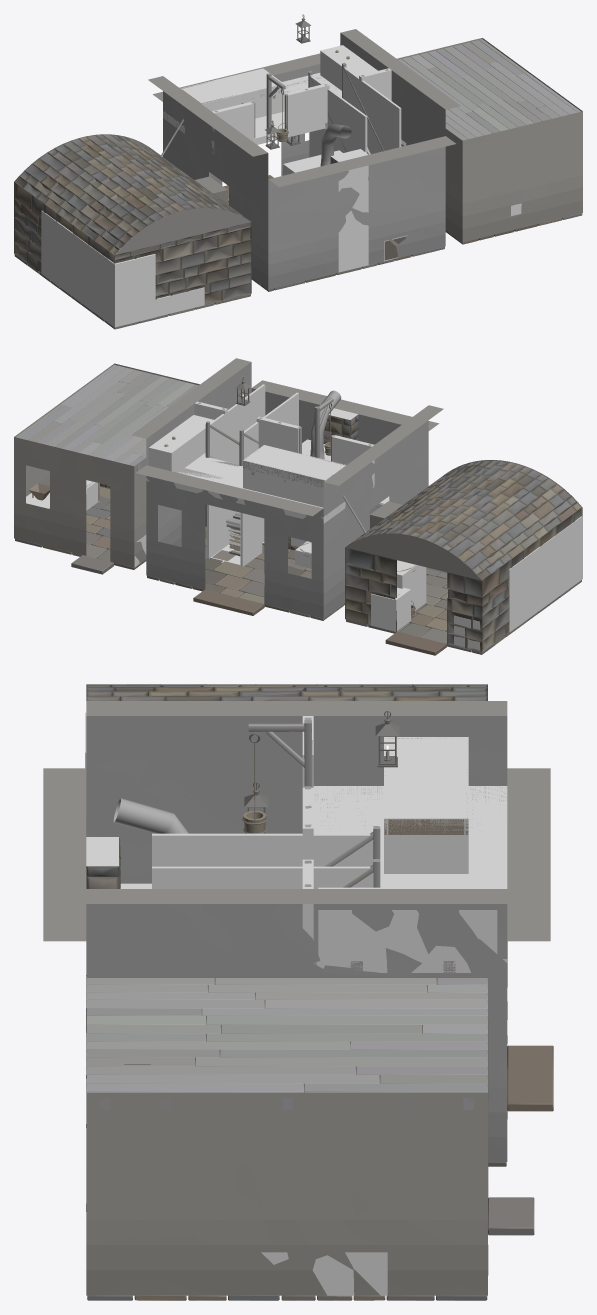
The model's file is brewery_interior.glb.
3 renders of one model, top to bottom at view 1: azimuth 30°, elevation 25°; view 2: azimuth 150°, elevation 25°; view 3: azimuth 270°, elevation 25°, orthographic. The views are drawn at different scales.
Visible parts, largest first — view 1: Limewash / tav_limewash, Cellar stone / tav_stone, Floor timbers / tav_board, Lager casks, Limewash / tav_mortar, Coolship, Cellar stone / tav_mortar, Chimney breast, Stair rail east, Stair rail west, Floors, Loft rail middle (+11 smaller); view 2: Limewash / tav_limewash, Cellar stone / tav_stone, Floors, Floor timbers / tav_board, Limewash / tav_mortar, Lager casks, Coolship, Stair rail east, Cellar stone / tav_mortar, Hop pockets, Stair rail west, Racking cask (+12 smaller); view 3: Limewash / tav_limewash, Floor timbers / tav_board, Limewash / tav_mortar, Coolship, Loft west, Floors, Stair rail west, Cellar stone / tav_stone, Hop pockets, Stair rail east, Steep, Copper (+9 smaller).
Boxes of the visible parts, x1,y1,x2,y2 form: Limewash / tav_limewash: [163, 33, 582, 289]; Cellar stone / tav_stone: [14, 134, 406, 304]; Floor timbers / tav_board: [398, 39, 580, 140]; Lager casks: [41, 210, 155, 327]; Limewash / tav_mortar: [148, 29, 460, 187]; Coolship: [181, 68, 284, 118]; Cellar stone / tav_mortar: [115, 208, 251, 255]; Chimney breast: [331, 149, 368, 272]; Stair rail east: [344, 68, 401, 154]; Stair rail west: [309, 76, 367, 157]; Floors: [14, 175, 582, 329]; Loft rail middle: [285, 83, 329, 130]; Limewash / tav_limewash: [14, 362, 428, 618]; Cellar stone / tav_stone: [205, 460, 582, 652]; Floors: [15, 486, 581, 655]; Floor timbers / tav_board: [16, 365, 198, 466]; Limewash / tav_mortar: [131, 358, 443, 516]; Lager casks: [473, 516, 582, 632]; Coolship: [243, 445, 345, 507]; Stair rail east: [207, 384, 265, 558]; Cellar stone / tav_mortar: [345, 533, 481, 580]; Hop pockets: [148, 415, 213, 472]; Stair rail west: [240, 392, 298, 566]; Racking cask: [371, 587, 410, 631]; Limewash / tav_limewash: [86, 716, 507, 1295]; Floor timbers / tav_board: [86, 978, 487, 1092]; Limewash / tav_mortar: [43, 701, 550, 941]; Coolship: [384, 737, 468, 873]; Loft west: [313, 786, 507, 888]; Floors: [87, 1045, 553, 1300]; Stair rail west: [152, 833, 373, 866]; Cellar stone / tav_stone: [86, 684, 487, 700]; Hop pockets: [318, 887, 497, 958]; Stair rail east: [152, 866, 373, 888]; Steep: [261, 1252, 387, 1295]; Copper: [113, 798, 188, 833].
Bounding box in the file's own units: 14.01 × 5.61 × 6.61.
